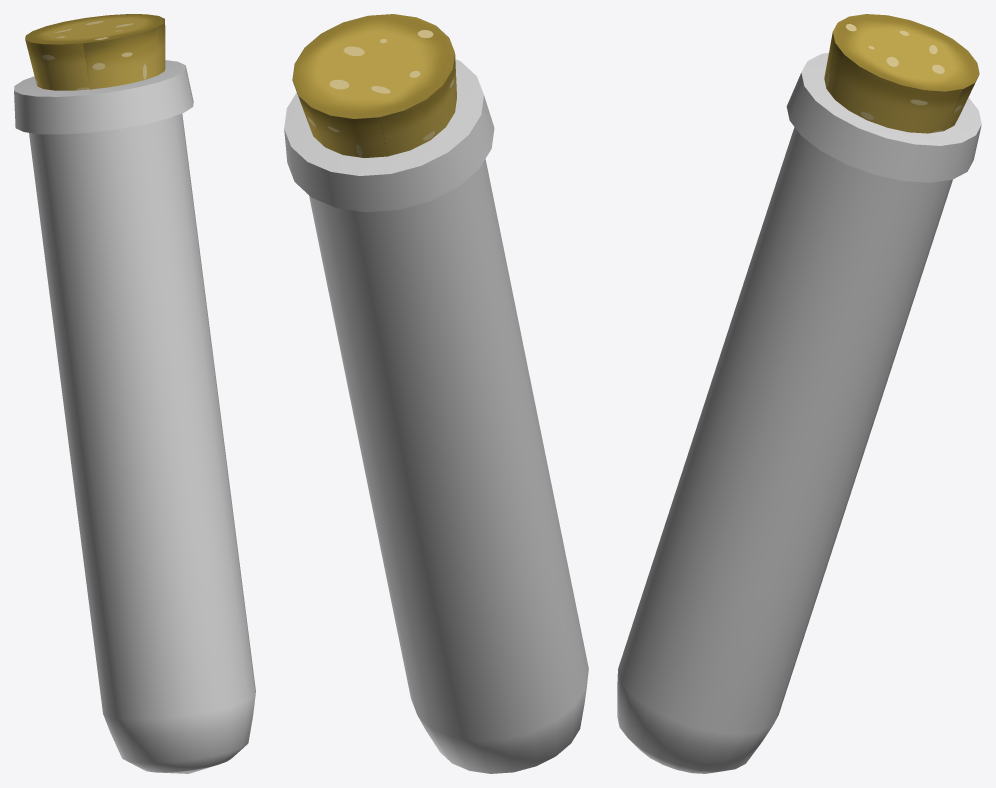
The model's file is testube done not opaque.fbx.
The picture shows the model from 3 angles, left to right: view 1: azimuth 30°, elevation 25°; view 2: azimuth 150°, elevation 25°; view 3: azimuth 270°, elevation 25°; orthographic projection. The views are drawn at different scales.
Parts seen in each view (by area): view 1: pCylinder8, pCylinder9; view 2: pCylinder8, pCylinder9; view 3: pCylinder8, pCylinder9.
Part boxes in pixels (left/top/right/bottom): pCylinder8: left=14, top=60, right=255, bottom=773; pCylinder9: left=25, top=14, right=165, bottom=90; pCylinder8: left=284, top=59, right=588, bottom=773; pCylinder9: left=292, top=14, right=456, bottom=157; pCylinder8: left=617, top=52, right=981, bottom=773; pCylinder9: left=824, top=14, right=979, bottom=133.
Bounding box in the file's own units: 2.33 × 9.68 × 4.35.
Materials: 3 (1 with a texture image).
